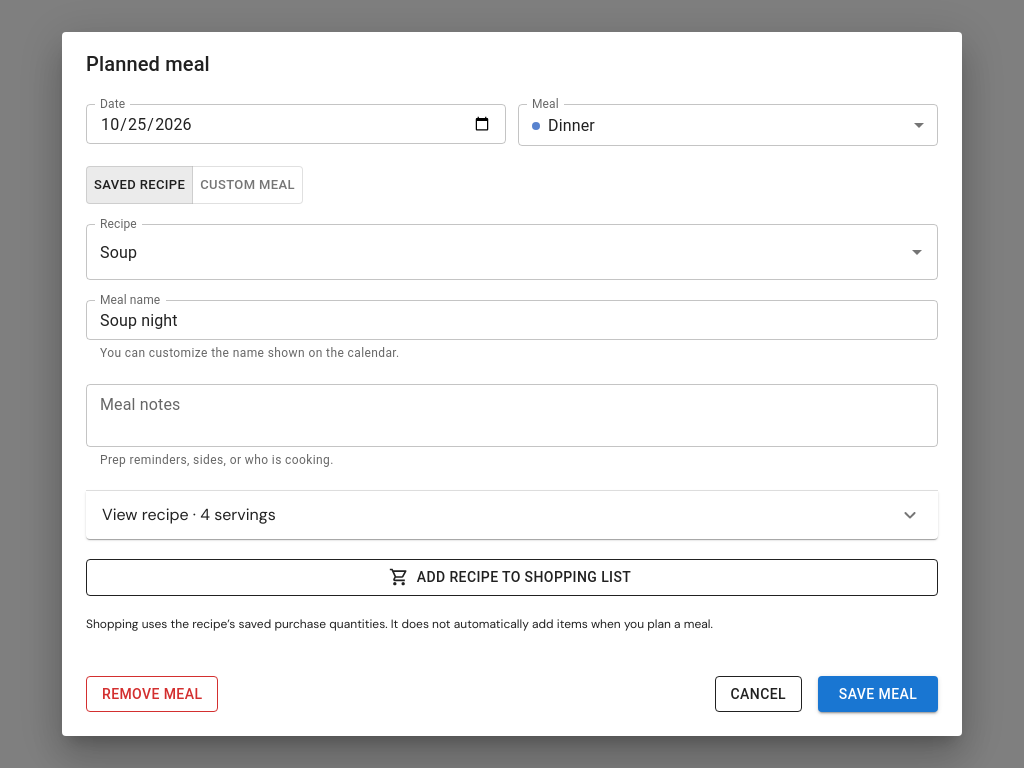
Test: failed or stale edits retain the draft instead of silently closing
What coordinates should you click on to do the following:
click the button "Save meal"
I would click on:
 (878, 694)
Its box is [818, 676, 938, 712].
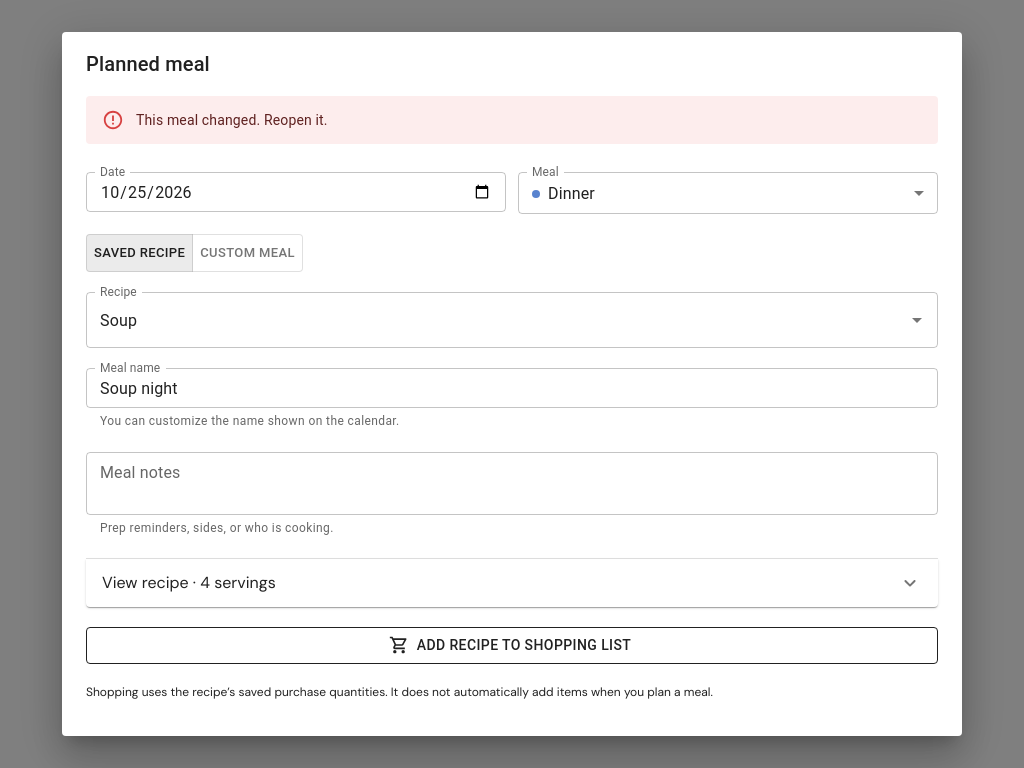
Check: the field labelled "Meal name" holds "Soup night", box [86, 368, 938, 408]
Check: the text "This meal changed. Reopen it." is shown, box [136, 112, 328, 128]
